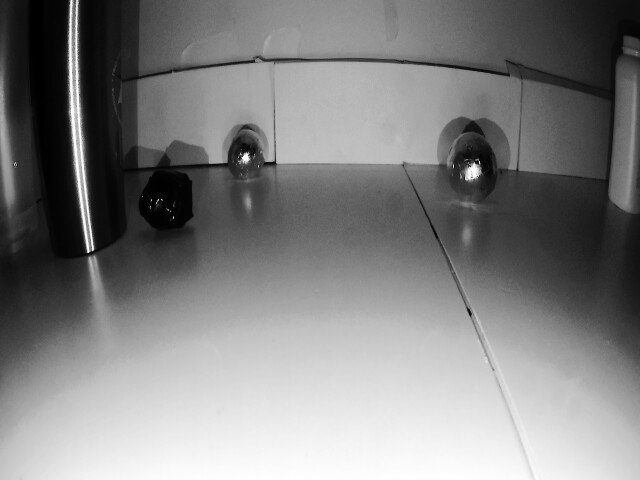black: (140, 168, 194, 226)
silver: (444, 121, 500, 205), (228, 125, 264, 182)
